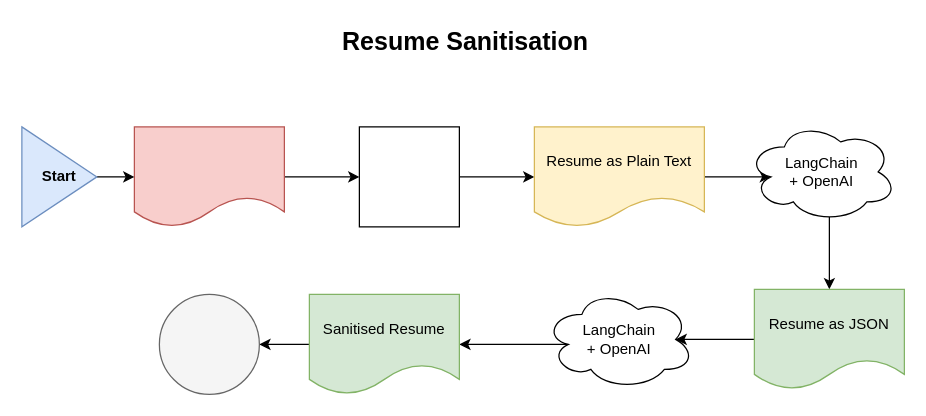
Some shapes in this 926 by 416 pixel diagram are drawn without their labels. Here are the shapes that lost their labels. From the top down, the centre of each, then its label:
At [208,176]: "Resume as PDF".
At [408,176]: "Extract Text from PDF".
At [208,343]: "End".
